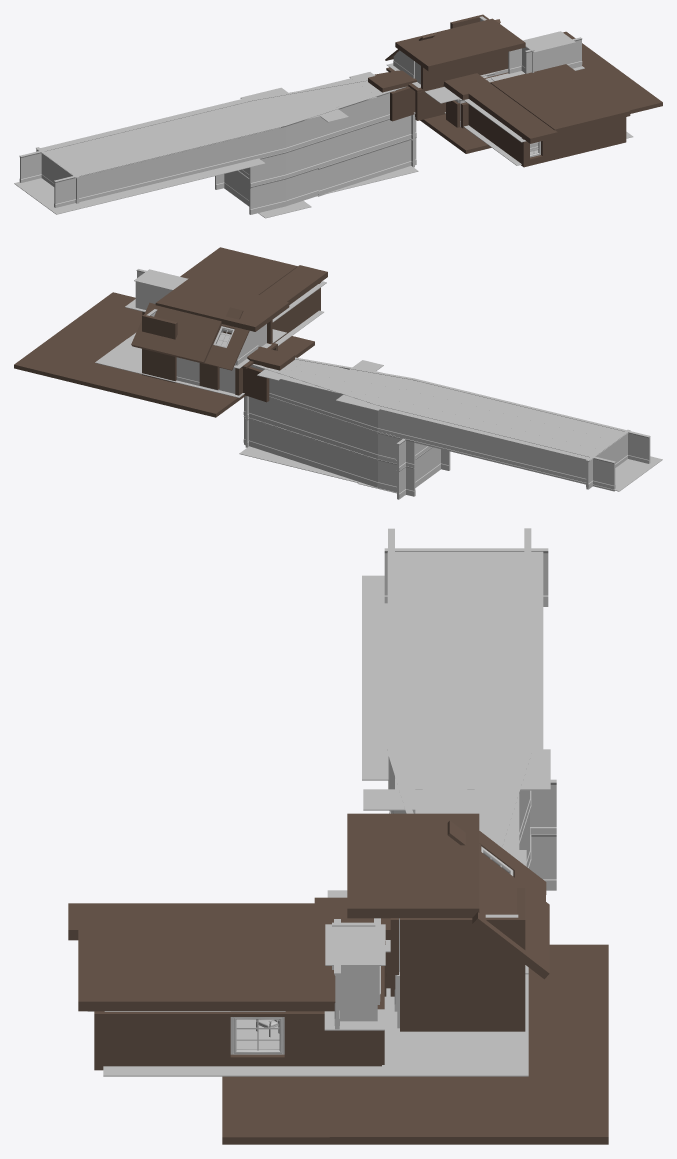
3 renders of one model, top to bottom at view 1: azimuth 30°, elevation 25°; view 2: azimuth 150°, elevation 25°; view 3: azimuth 270°, elevation 25°, orthographic. The views are drawn at different scales.
Parts seen in each view (by area): view 1: Ceiling_003, Ceiling_002, Floor, Cube, Wall_012, Wall_025, Wall_009, Wall_020_1, Ceiling_004, Wall_005, Office_Wal_3M_048__29_, Office_Wal_3M_048__4__2 (+44 smaller); view 2: Floor, Ceiling_002, Ceiling_003, Wall_022, Wall_021, Cube, Wall_009, Wall_020, Ceiling_004, Wall_023, Office_Wal_3M_048__25__1, Office_Wal_3M_048__26__1 (+38 smaller); view 3: Floor, Ceiling_003, Ceiling_002, Wall_000, Wall_013, Cube, Wall_022, Office_Wal_3M_Corner_In_001__1_, Office_Wal_3M_048__36_, Ceiling_2M_003__2_, Office_Wal_3M_048__37_, Ceiling_2M_003__1_ (+46 smaller).
Boxes of the visible parts, bbox=[...] form: Ceiling_003: bbox=[490, 64, 630, 133]; Ceiling_002: bbox=[395, 18, 525, 71]; Floor: bbox=[415, 31, 662, 153]; Cube: bbox=[443, 73, 557, 143]; Wall_012: bbox=[521, 117, 626, 167]; Wall_025: bbox=[421, 52, 508, 89]; Wall_009: bbox=[468, 104, 522, 165]; Wall_020_1: bbox=[390, 86, 415, 121]; Ceiling_004: bbox=[368, 70, 416, 92]; Wall_005: bbox=[415, 86, 445, 120]; Office_Wal_3M_048__29_: bbox=[249, 182, 268, 214]; Office_Wal_3M_048__4__2: bbox=[249, 129, 268, 160]; Floor: bbox=[14, 292, 314, 417]; Ceiling_002: bbox=[155, 278, 289, 331]; Ceiling_003: bbox=[180, 247, 297, 294]; Wall_022: bbox=[131, 302, 222, 363]; Wall_021: bbox=[142, 315, 177, 382]; Cube: bbox=[223, 265, 327, 334]; Wall_009: bbox=[272, 288, 319, 342]; Wall_020: bbox=[243, 366, 269, 402]; Ceiling_004: bbox=[247, 346, 294, 370]; Wall_023: bbox=[218, 327, 249, 370]; Office_Wal_3M_048__25__1: bbox=[596, 457, 615, 491]; Office_Wal_3M_048__26__1: bbox=[630, 431, 650, 463]; Floor: bbox=[222, 944, 608, 1144]; Ceiling_003: bbox=[78, 928, 335, 1011]; Ceiling_002: bbox=[347, 813, 479, 918]; Wall_000: bbox=[400, 916, 522, 1031]; Wall_013: bbox=[100, 1011, 381, 1070]; Cube: bbox=[68, 897, 390, 940]; Wall_022: bbox=[472, 850, 549, 979]; Office_Wal_3M_Corner_In_001__1_: bbox=[339, 966, 377, 1021]; Office_Wal_3M_048__36_: bbox=[530, 779, 556, 838]; Ceiling_2M_003__2_: bbox=[325, 944, 385, 965]; Office_Wal_3M_048__37_: bbox=[530, 834, 556, 890]; Ceiling_2M_003__1_: bbox=[325, 924, 385, 944].
Size of the model in its own units: 6391 by 1307 by 2616.
